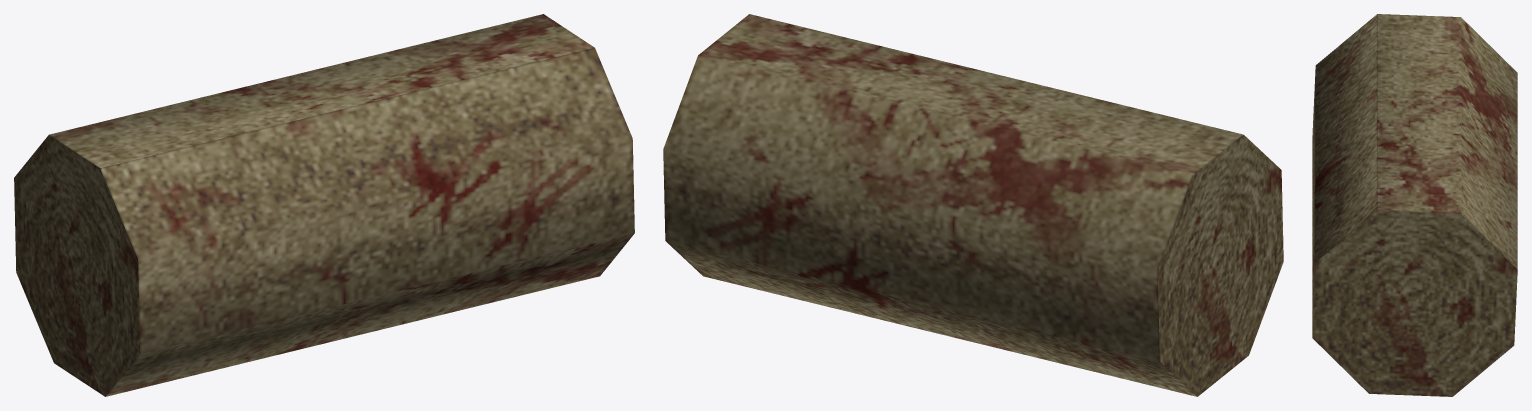
Rendered from SM_EC_Horror_Hay_2.fbx.
3 renders of one model, left to right at view 1: azimuth 30°, elevation 25°; view 2: azimuth 150°, elevation 25°; view 3: azimuth 270°, elevation 25°, orthographic. The views are drawn at different scales.
Parts seen in each view (by area): view 1: SM_EC_Horror_Hay_2; view 2: SM_EC_Horror_Hay_2; view 3: SM_EC_Horror_Hay_2.
Boxes of the visible parts, box(x1,y1,x2,y2) form: SM_EC_Horror_Hay_2: box(14, 14, 634, 396); SM_EC_Horror_Hay_2: box(663, 14, 1283, 396); SM_EC_Horror_Hay_2: box(1312, 14, 1517, 396).
Bounding box in the file's own units: 1.95 × 0.8604 × 0.8604.
